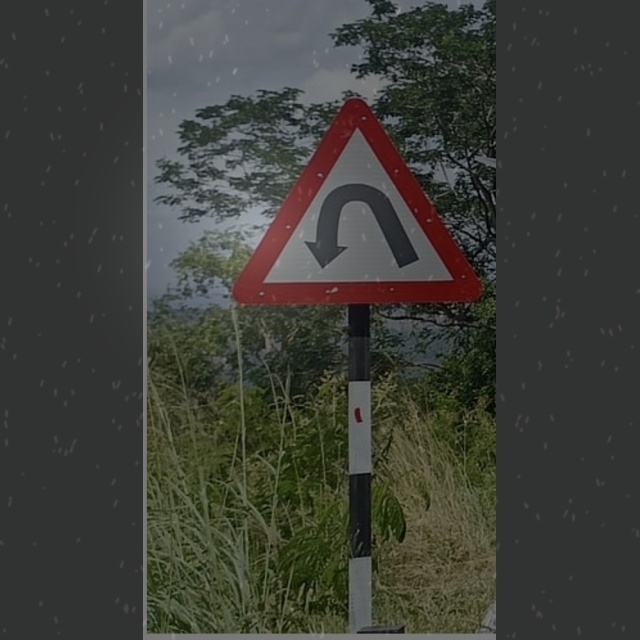Left_Hair_Pin_Bend: (238, 94, 479, 310)
